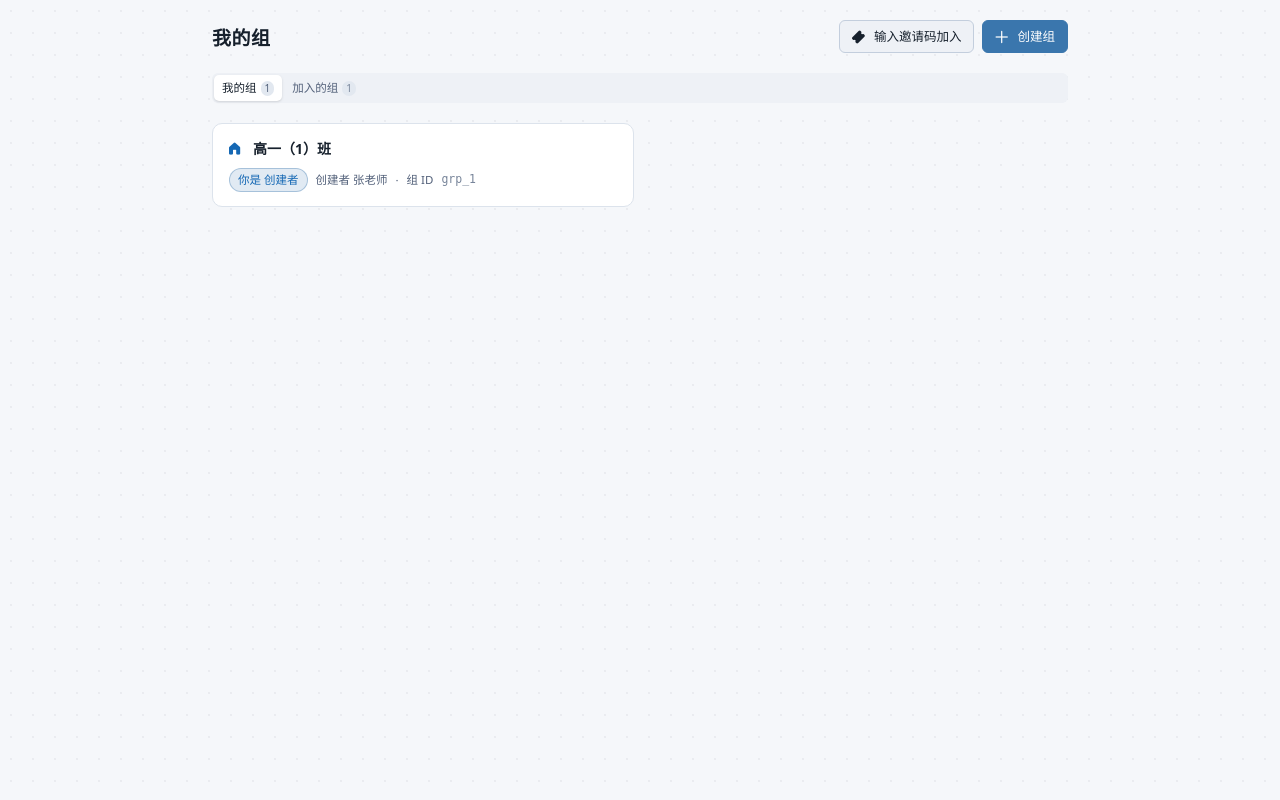
Scenario: ConsoleGroupsView › 组卡片显示创建者昵称，并把组 ID 单独标注
The image size is (1280, 800).
Expected: the number of elements with test id "group-card-owner" is 1, left=316, top=171, right=388, bottom=189
Expected: the element with test id "group-card-owner" shows "张老师", left=353, top=172, right=388, bottom=187
Click the tab with test id "home-tab-joined" at (324, 88), box left=284, top=75, right=364, bottom=101
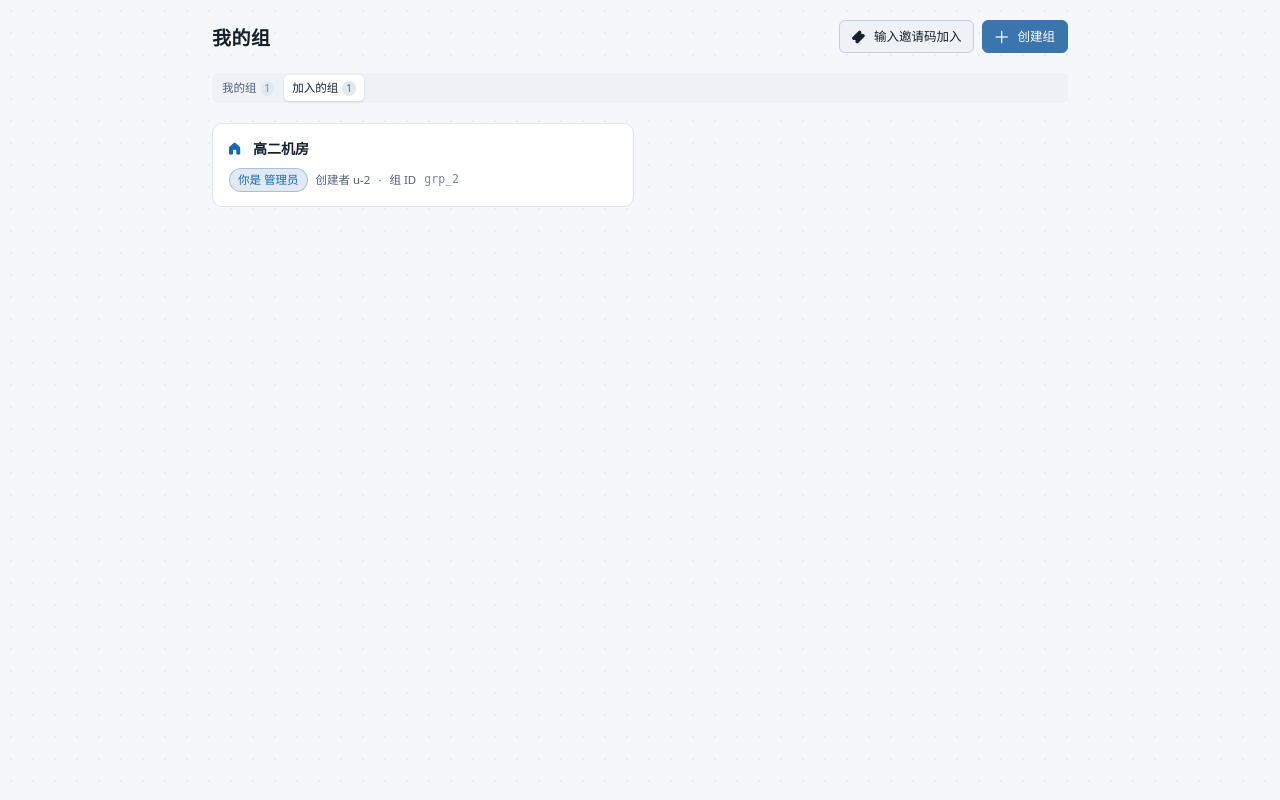
Expected: the number of elements with test id "group-card-owner" is 1, left=316, top=171, right=370, bottom=189
Result: the element with test id "group-card-owner" shows "u-2" at left=353, top=172, right=370, bottom=187
